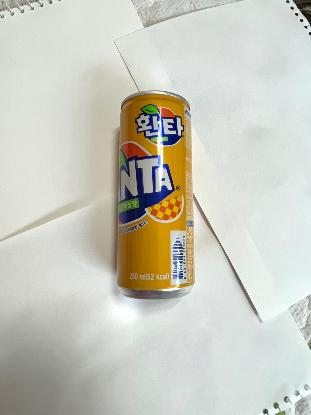Can: (115, 88, 198, 302)
